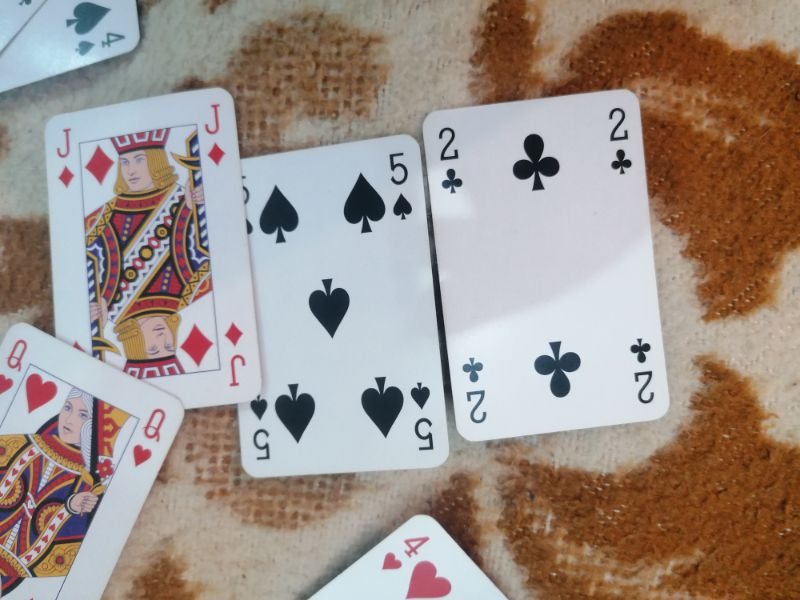2c: (433, 123, 468, 196), (457, 354, 491, 426), (626, 334, 659, 405), (605, 103, 637, 176)
4h: (376, 531, 434, 578)
4s: (72, 27, 130, 58)
5s: (406, 379, 439, 455), (246, 393, 276, 461), (387, 148, 414, 222)
Jd: (199, 98, 229, 168), (222, 318, 251, 389), (50, 124, 78, 191)
Qh: (130, 405, 172, 471), (1, 336, 33, 396)
